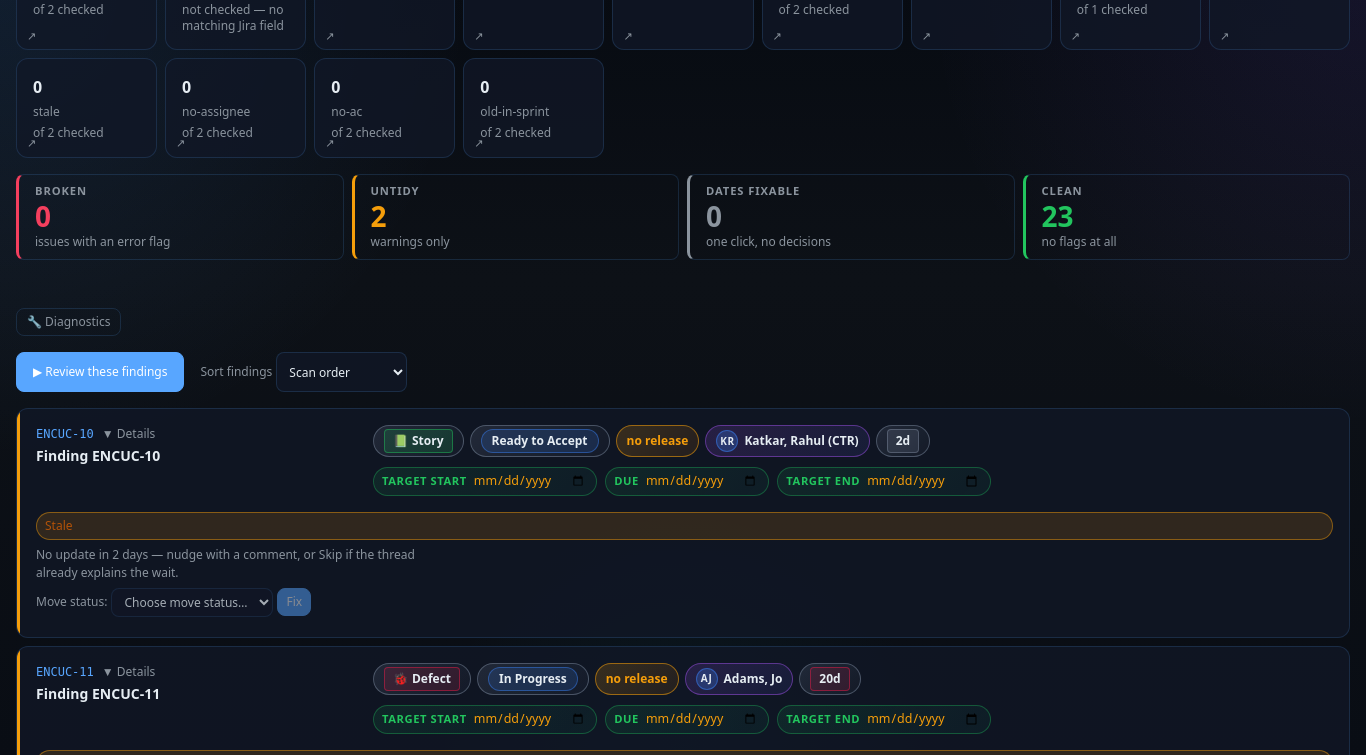
Scenario: HygieneView › locks the sort control while a session is active so the reviewed order cannot shift underneath it
(page scrolled)
Click the button "▶ Review these findings" at point(100, 372), box [16,352,184,392]
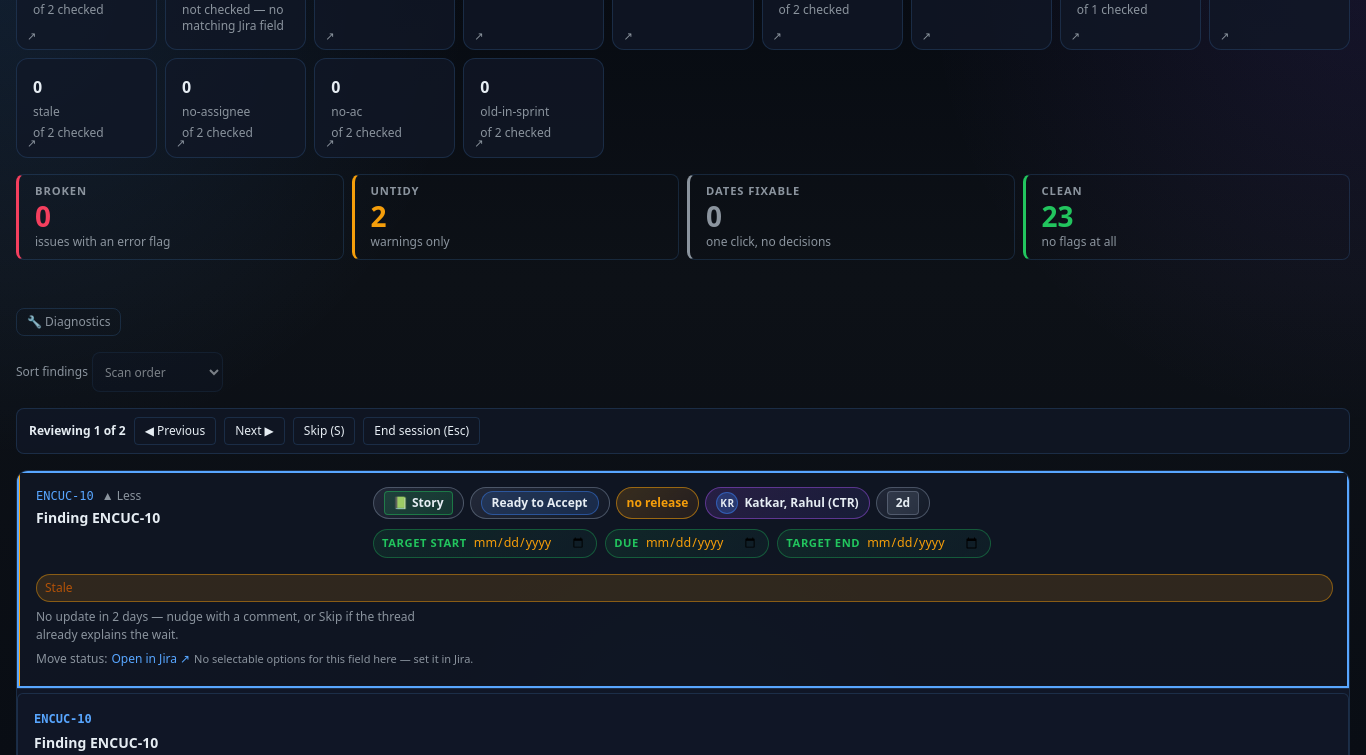
Expected: the dropdown labelled "Sort findings" is disabled, [92,352,223,392]
